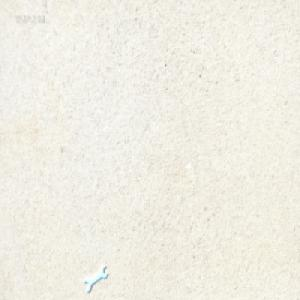Wrench: (87, 265, 112, 293)
